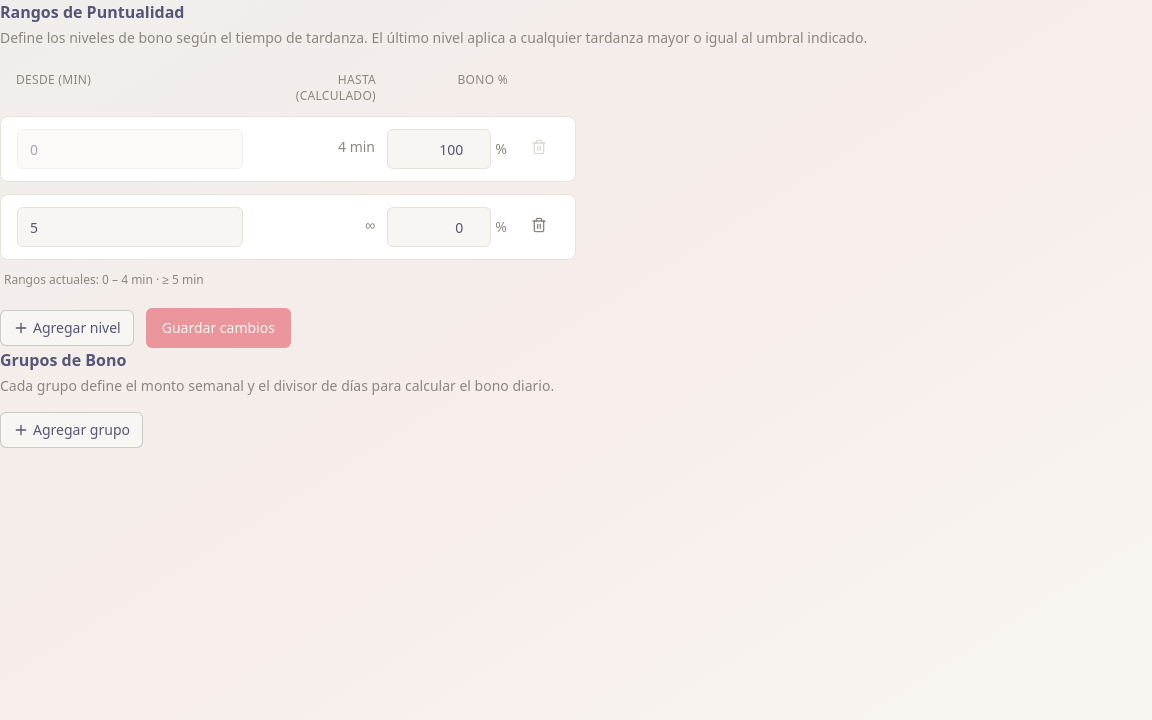
Test: PunctualityConfigSection — bonus groups › toggles the create form and cancels back to hidden
Click the button "Agregar grupo": (72, 430) left=0, top=412, right=143, bottom=448
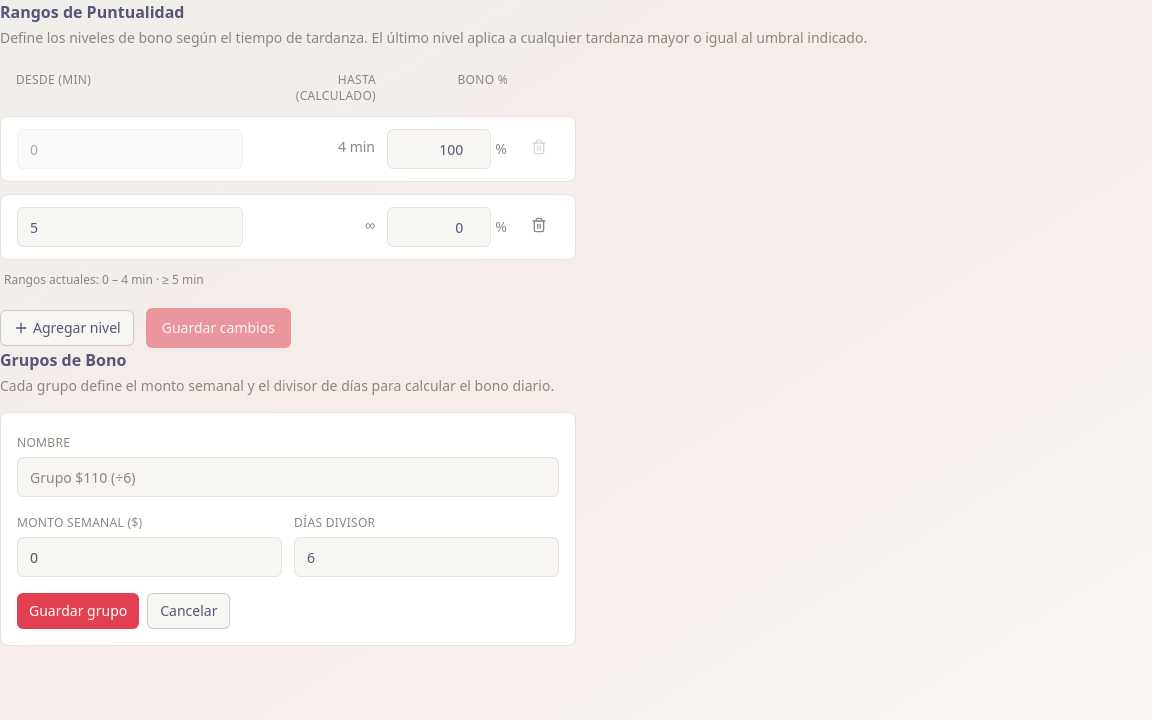
Result: the button "Guardar grupo" is shown at left=17, top=593, right=139, bottom=629
Click the button "Cancelar": (189, 611) left=147, top=593, right=230, bottom=629
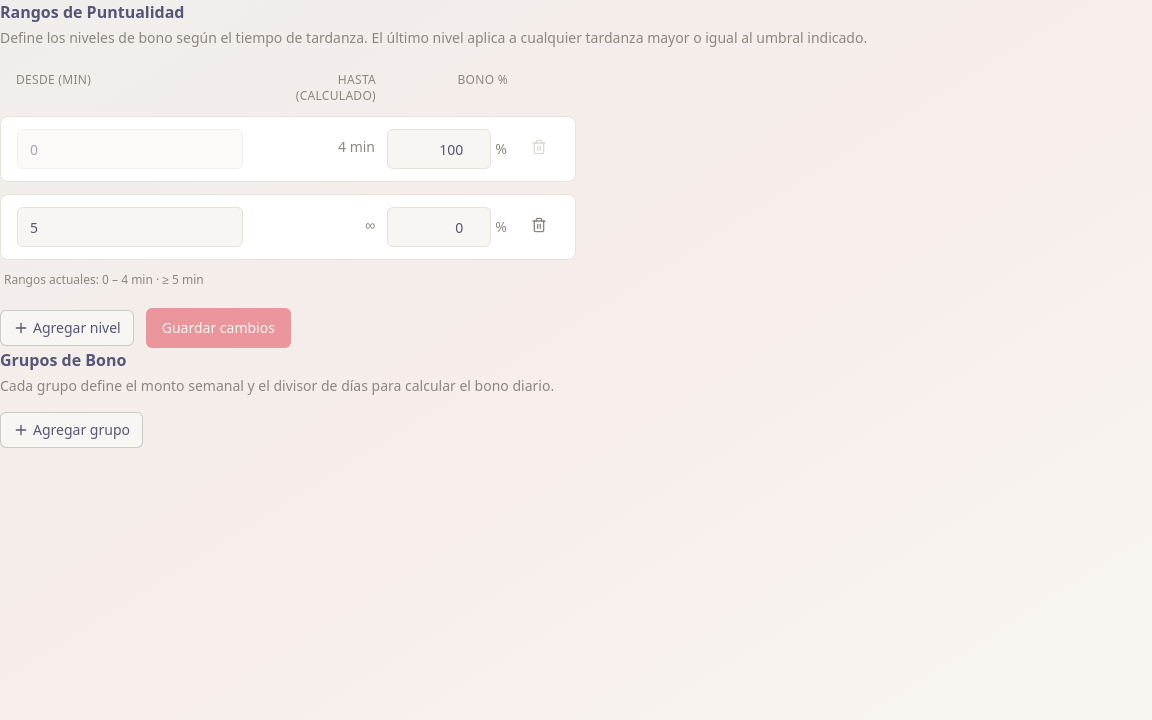
Result: the button "Guardar grupo" is gone
